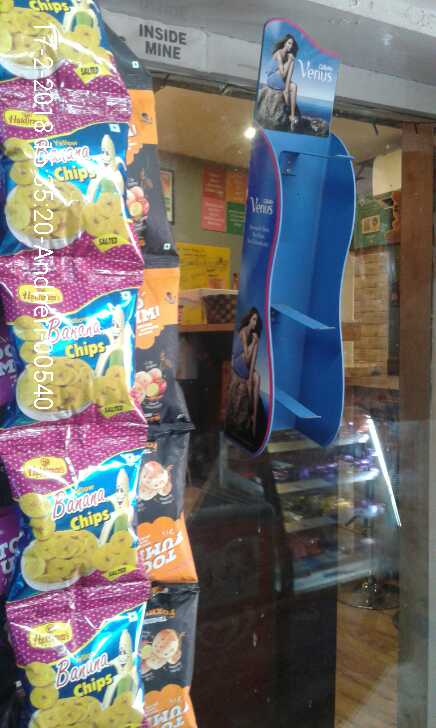reject: (261, 166, 338, 419)
